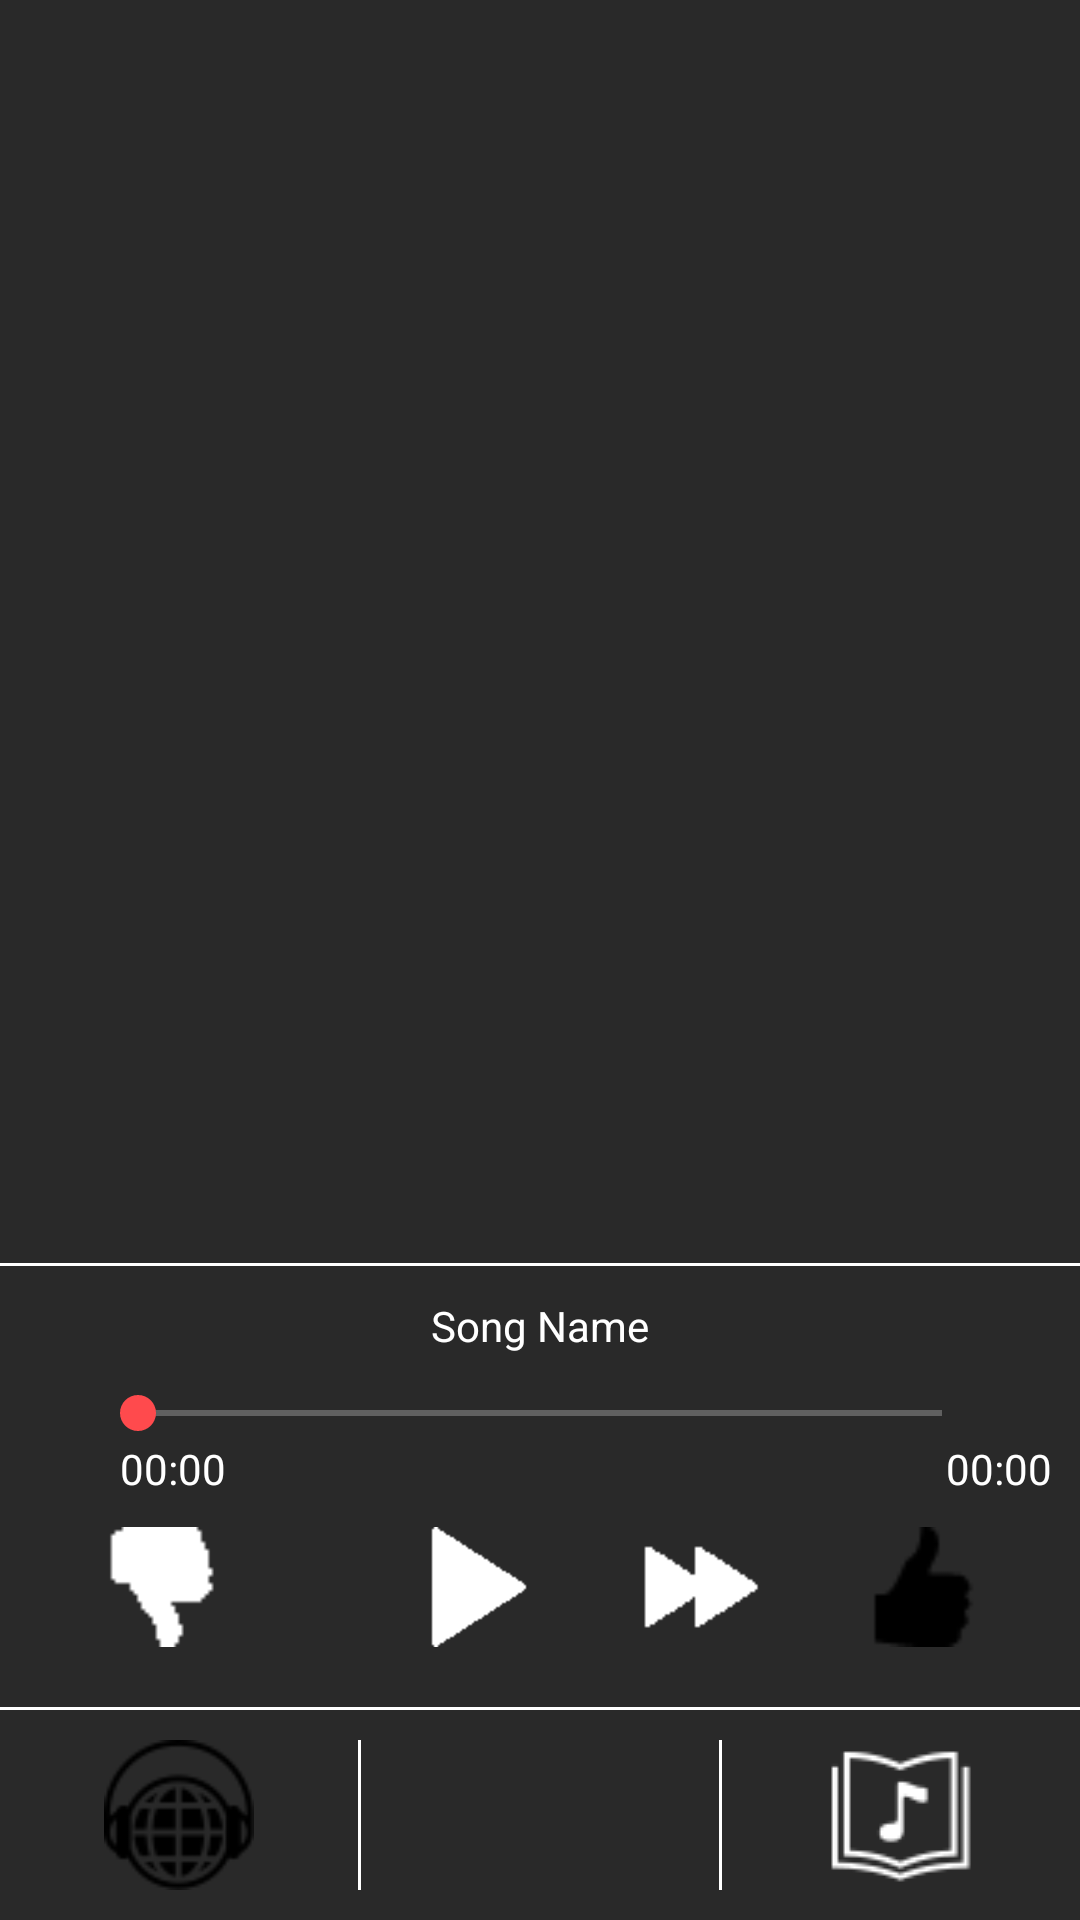

Icons on this 1080×1920 Android screen, each with the point to tap as (x,y):
lyrics: (901,1816)
next track: (701,1587)
play: (479,1587)
thumbs down: (162,1587)
thumbs up: (922,1587)
